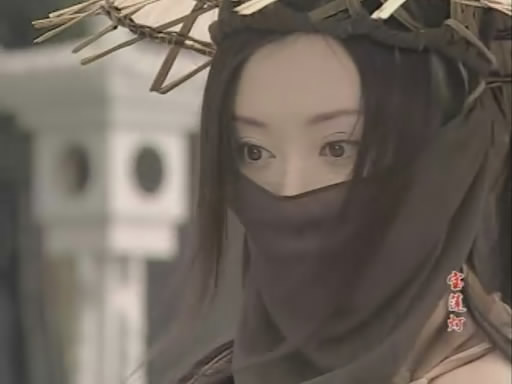face_mask: (225, 53, 398, 259)
